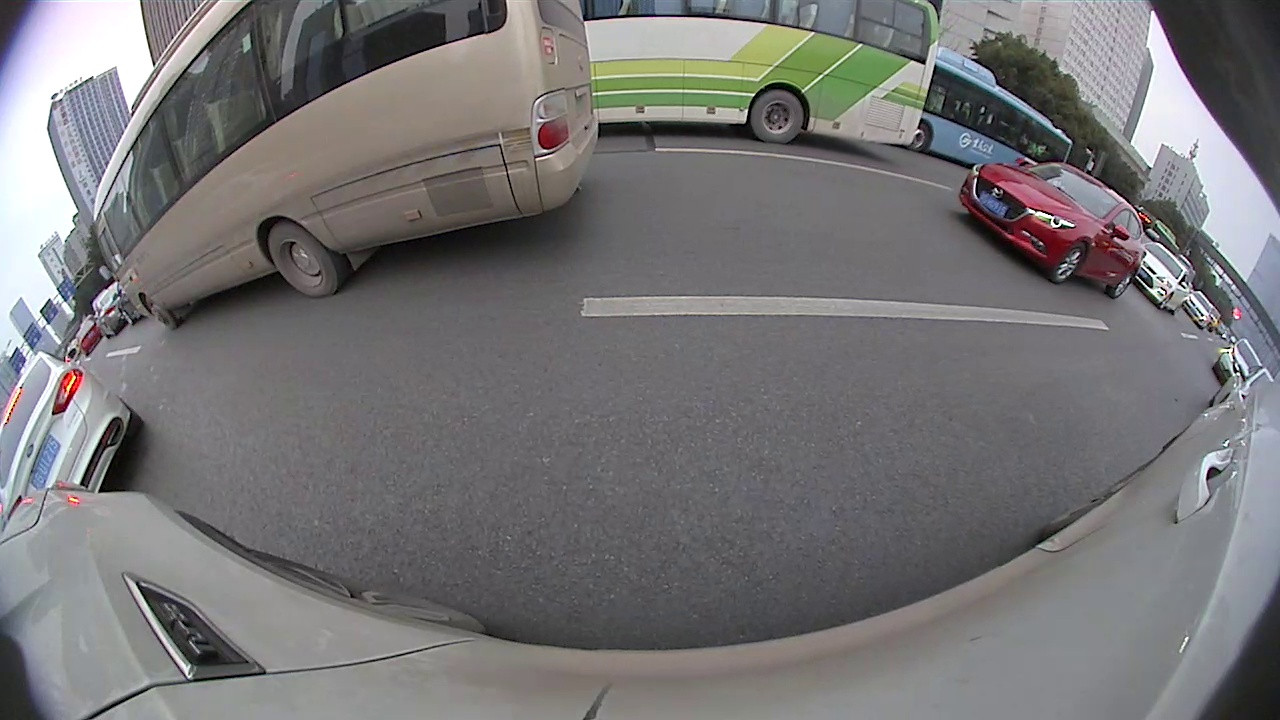bus: (91, 1, 603, 330), (580, 1, 942, 150), (909, 42, 1078, 172)
car: (958, 159, 1149, 303), (0, 355, 140, 522), (1136, 241, 1195, 323), (1215, 336, 1264, 391), (88, 284, 128, 336), (1187, 286, 1219, 326)
front: (1050, 243, 1089, 283), (141, 296, 181, 328), (908, 123, 929, 150)
rear: (269, 224, 344, 297), (753, 89, 803, 145), (1108, 270, 1135, 296)
